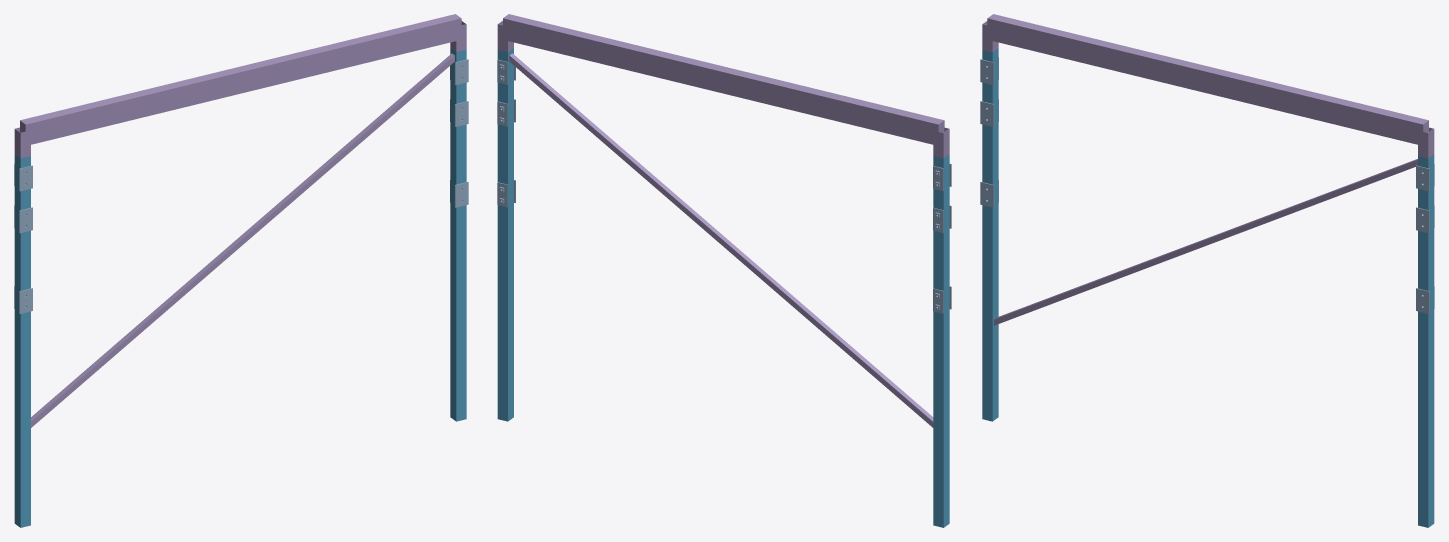
Rendered from baaabs-panel-mounting-v2-transport.glb.
3 renders of one model, left to right at view 1: azimuth 30°, elevation 25°; view 2: azimuth 150°, elevation 25°; view 3: azimuth 330°, elevation 25°, orthographic.
Parts seen in each view (by area): view 1: Existing roof longitudinal, C driver upright, D driver upright, Existing C-D side brace; view 2: Existing roof longitudinal, C driver upright, D driver upright, Existing C-D side brace; view 3: Existing roof longitudinal, D driver upright, C driver upright, Existing C-D side brace.
Part boxes in pixels (x1,y1,x2,y2): Existing roof longitudinal: (20,14,461,145); C driver upright: (14,154,30,527); D driver upright: (450,48,466,421); Existing C-D side brace: (31,53,454,427); Existing roof longitudinal: (503,14,944,145); C driver upright: (933,154,949,527); D driver upright: (497,48,513,421); Existing C-D side brace: (509,53,933,427); Existing roof longitudinal: (987,14,1428,145); D driver upright: (1418,154,1434,527); C driver upright: (982,48,998,421); Existing C-D side brace: (994,159,1417,325).
Size of the model in its own units: 3.34 by 2.85 by 0.1002.
